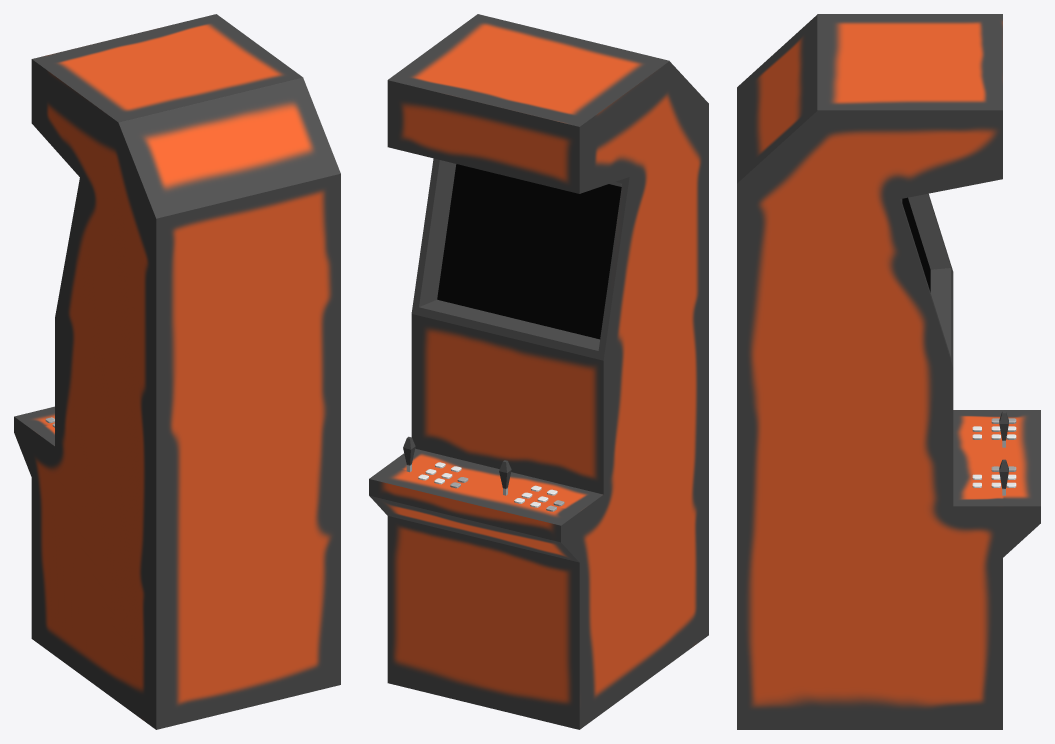
File: fliperama.fbx
The picture shows the model from 3 angles, left to right: view 1: azimuth 30°, elevation 25°; view 2: azimuth 150°, elevation 25°; view 3: azimuth 270°, elevation 25°; orthographic projection. The views are drawn at different scales.
Visible parts, largest first — view 1: Case; view 2: Case; view 3: Case.
Part boxes in pixels (left/top/right/bottom): Case: left=14, top=14, right=340, bottom=729; Case: left=369, top=14, right=708, bottom=729; Case: left=737, top=14, right=1040, bottom=729.
Size of the model in its own units: 60 by 180 by 80.
